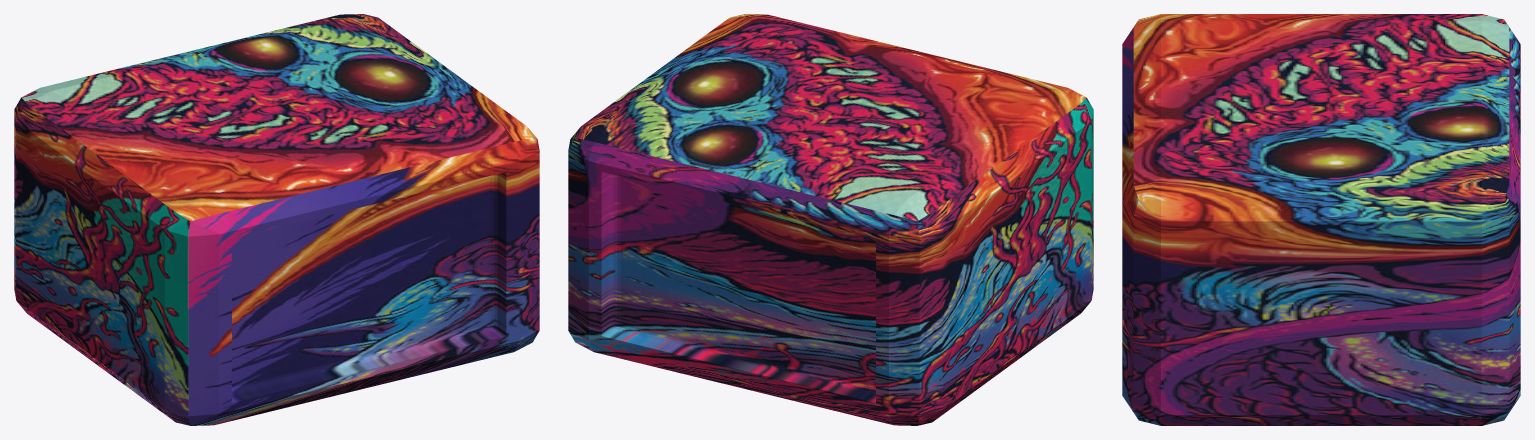
File: chassis.dae
The picture shows the model from 3 angles, left to right: view 1: azimuth 30°, elevation 25°; view 2: azimuth 150°, elevation 25°; view 3: azimuth 270°, elevation 25°; orthographic projection. The views are drawn at different scales.
Visible parts, largest first — view 1: Cube; view 2: Cube; view 3: Cube.
Boxes of the visible parts, x1,y1,x2,y2 form: Cube: (14, 14, 539, 425); Cube: (568, 14, 1093, 425); Cube: (1122, 14, 1520, 425).
Bounding box in the file's own units: 0.35 × 0.3 × 0.1943.
1 material, 1 textured.
